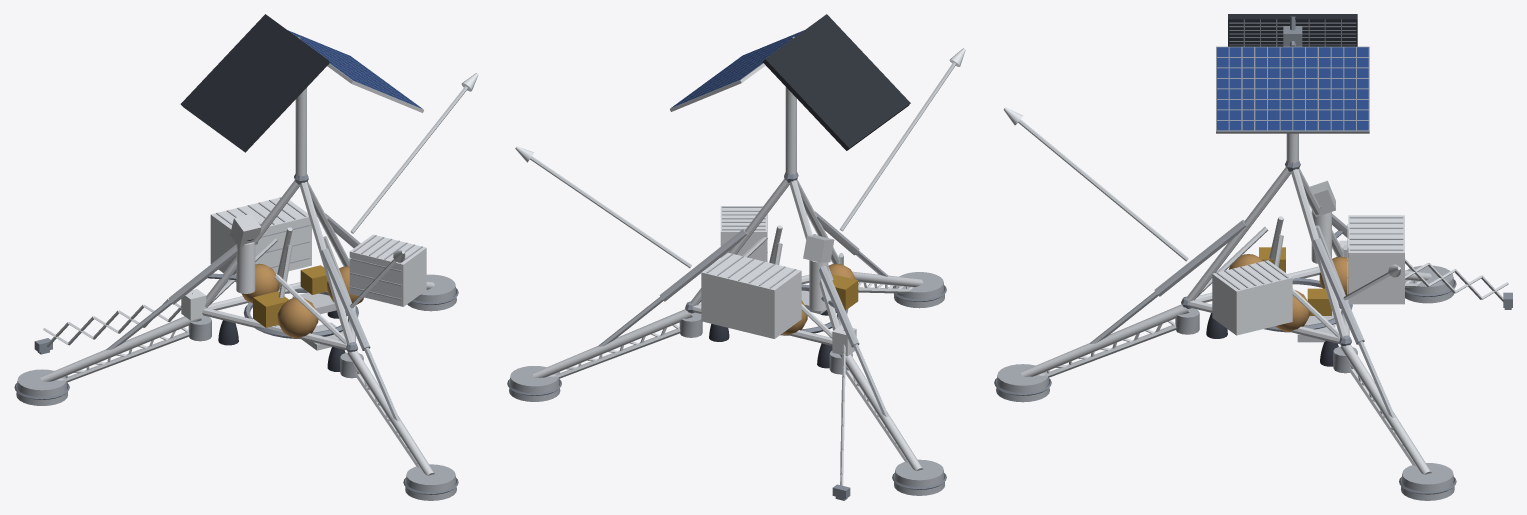
File: surveyor-3.glb
3 renders of one model, left to right at view 1: azimuth 30°, elevation 25°; view 2: azimuth 150°, elevation 25°; view 3: azimuth 270°, elevation 25°, orthographic. The views are drawn at different scales.
Parts seen in each view (by area): view 1: body, foil, solar-panel; view 2: body, solar-panel, foil; view 3: body, solar-panel, foil.
Part boxes in pixels (box(x1,y1,x2,y2)): body: box(14, 14, 478, 500); foil: box(241, 263, 363, 338); solar-panel: box(288, 30, 422, 108); body: box(507, 14, 965, 500); solar-panel: box(671, 30, 804, 107); foil: box(782, 263, 858, 335); body: box(994, 14, 1512, 500); solar-panel: box(1217, 47, 1368, 130); foil: box(1228, 247, 1348, 331).
Size of the model in its own units: 3.97 by 3.06 by 3.84.
